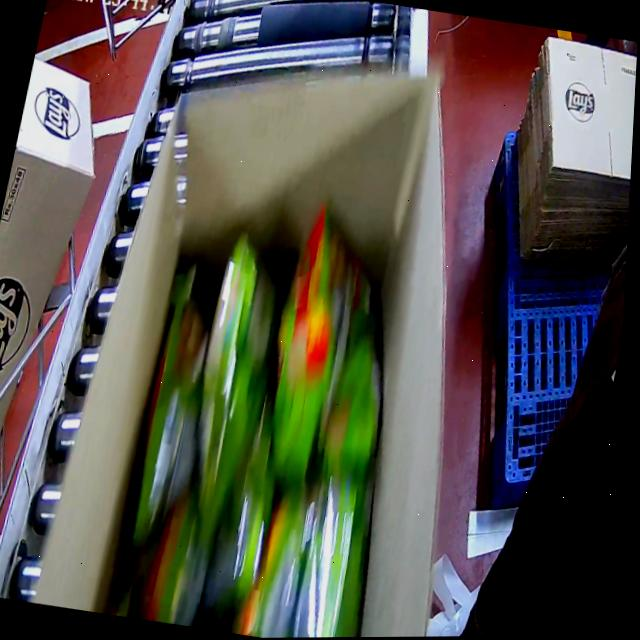YOGURT_HERB: (99, 196, 458, 639)
